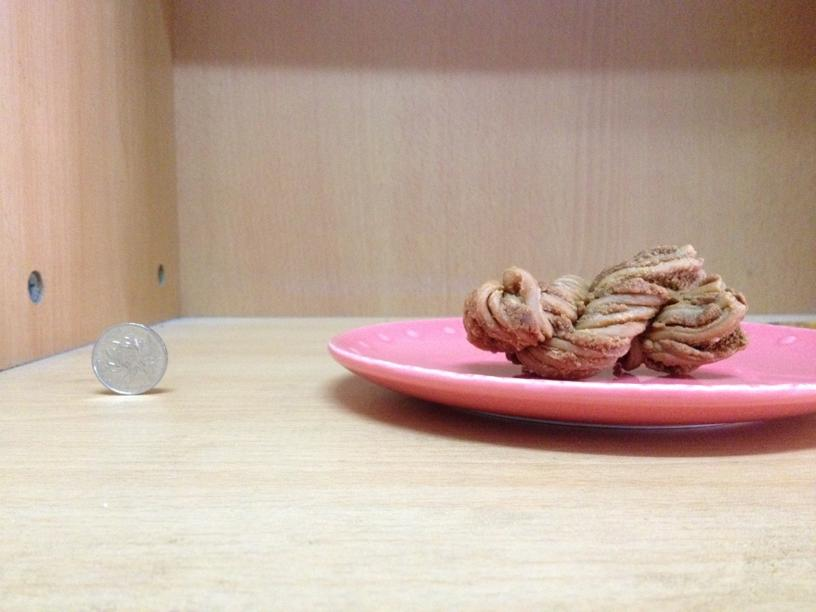coin: (91, 322, 168, 395)
fired_dough_twist: (464, 248, 744, 378)
